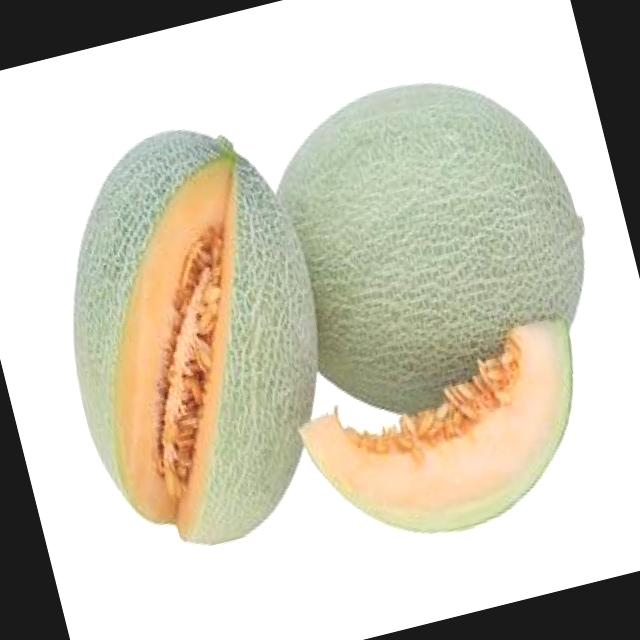cantaloupe: (20, 100, 368, 570), (259, 44, 614, 430), (288, 318, 608, 564)
